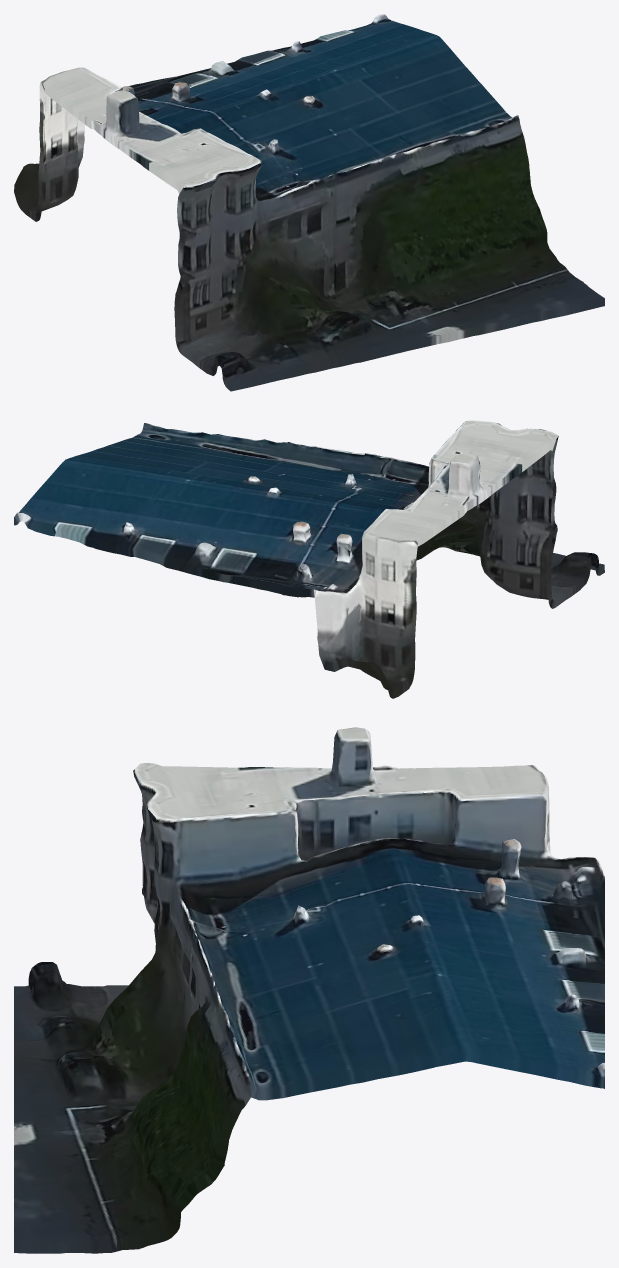
The model's file is z20-167728-405192-h0-yup-uvflip-v3-world.glb.
3 renders of one model, top to bottom at view 1: azimuth 30°, elevation 25°; view 2: azimuth 150°, elevation 25°; view 3: azimuth 270°, elevation 25°, orthographic. The views are drawn at different scales.
Size of the model in its own units: 30.2 by 16 by 30.32.
1 material, 1 textured.
